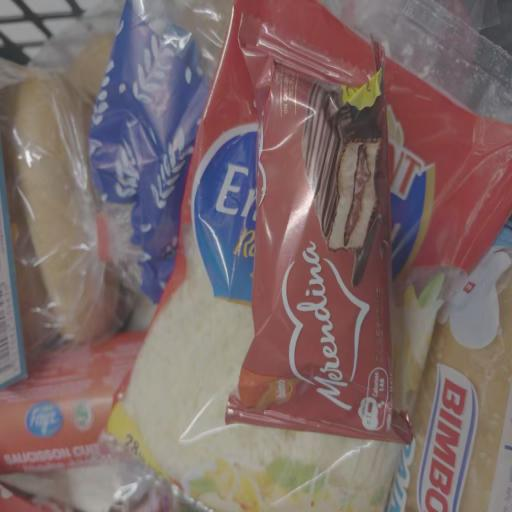merendina: (236, 14, 425, 446)
